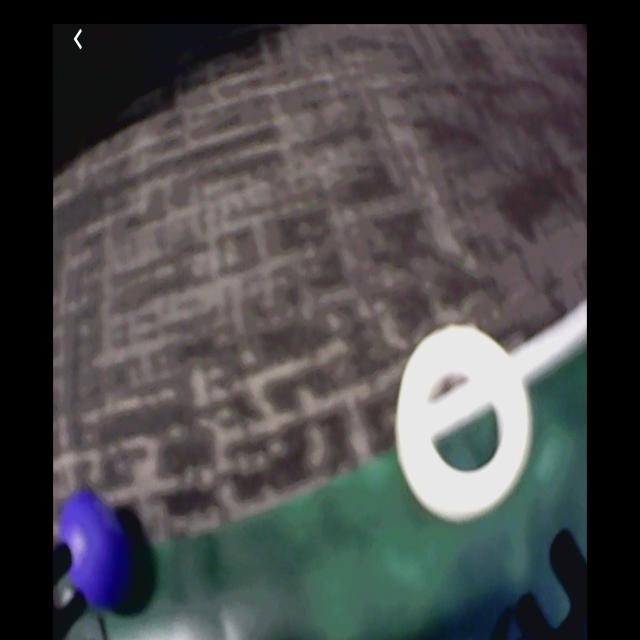ball: (60, 489, 133, 607)
